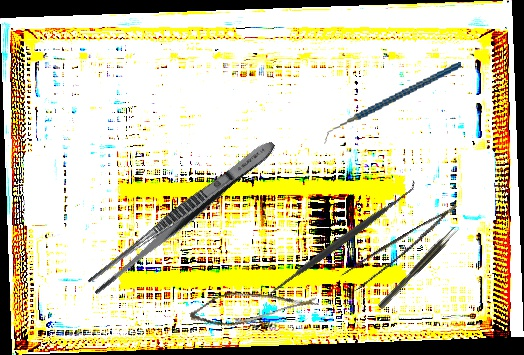Chopper: (315, 62, 470, 144)
Dressing Forceps: (85, 134, 280, 298)
Micro Scissor: (187, 267, 319, 344)
Spatula Surgical: (261, 177, 424, 303)
Tissue Forceps: (336, 204, 469, 295), (375, 225, 460, 310)
